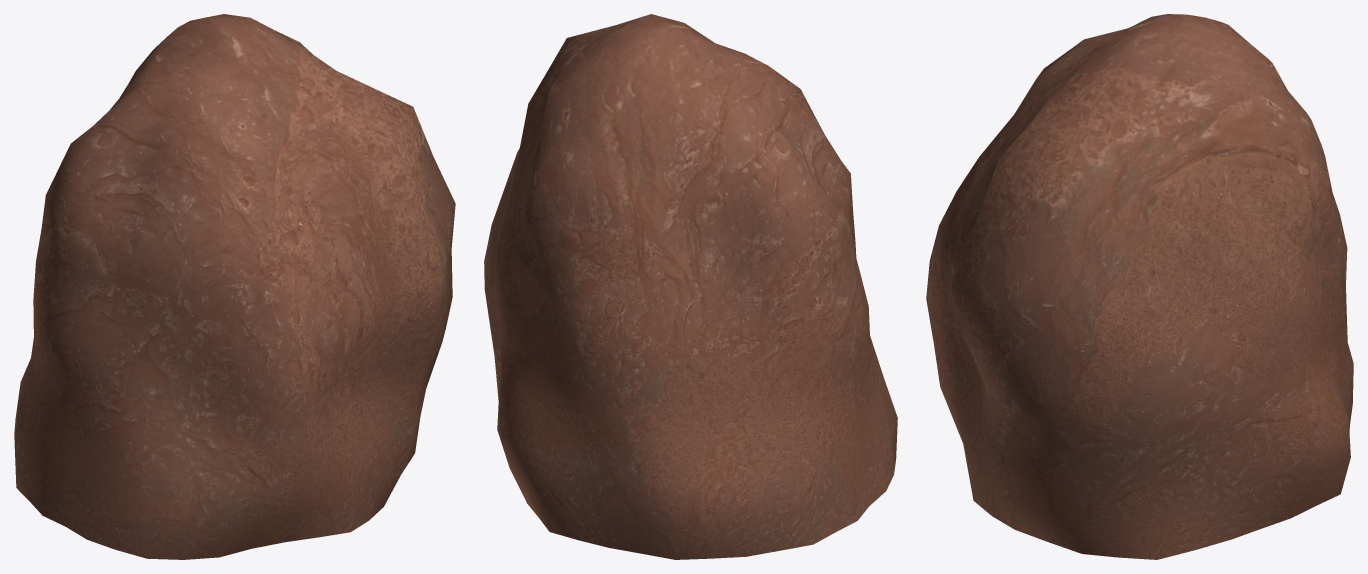
The model's file is Rock_01.glb.
The picture shows the model from 3 angles, left to right: view 1: azimuth 30°, elevation 25°; view 2: azimuth 150°, elevation 25°; view 3: azimuth 270°, elevation 25°; orthographic projection. The views are drawn at different scales.
Visible parts, largest first — view 1: Rock_01; view 2: Rock_01; view 3: Rock_01.
Part boxes in pixels (box(x1,y1,x2,y2)): Rock_01: box(14, 14, 455, 559); Rock_01: box(484, 14, 897, 559); Rock_01: box(926, 14, 1353, 559).
Bounding box in the file's own units: 2.56 × 3.02 × 2.49.
Materials: 1 (1 with a texture image).
